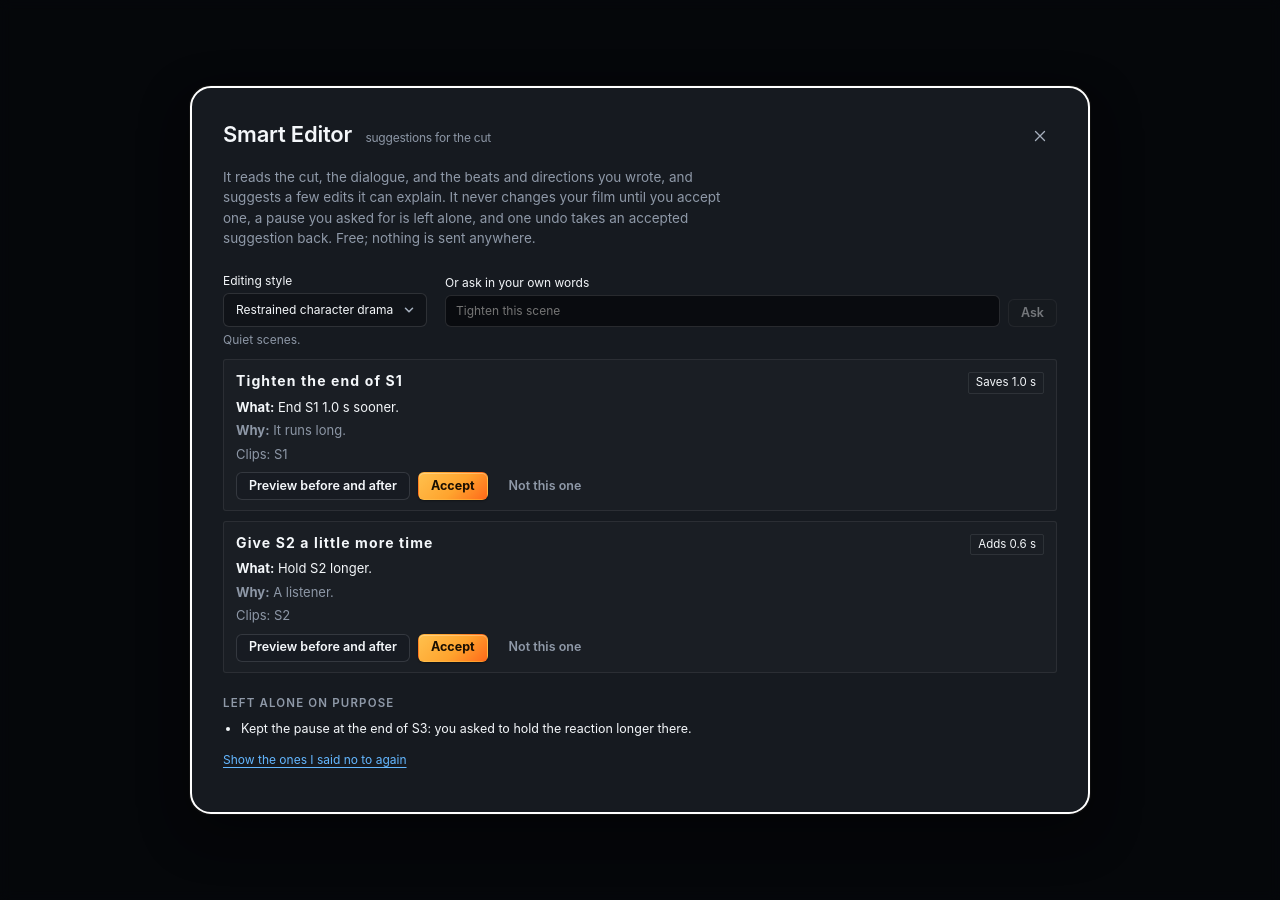
Test: the Smart Editor sheet › refusing sends a reject for that suggestion only
Click the button "Not this one" below "Give S2 a little more time". click: (545, 648)
box: [496,634,594,662]
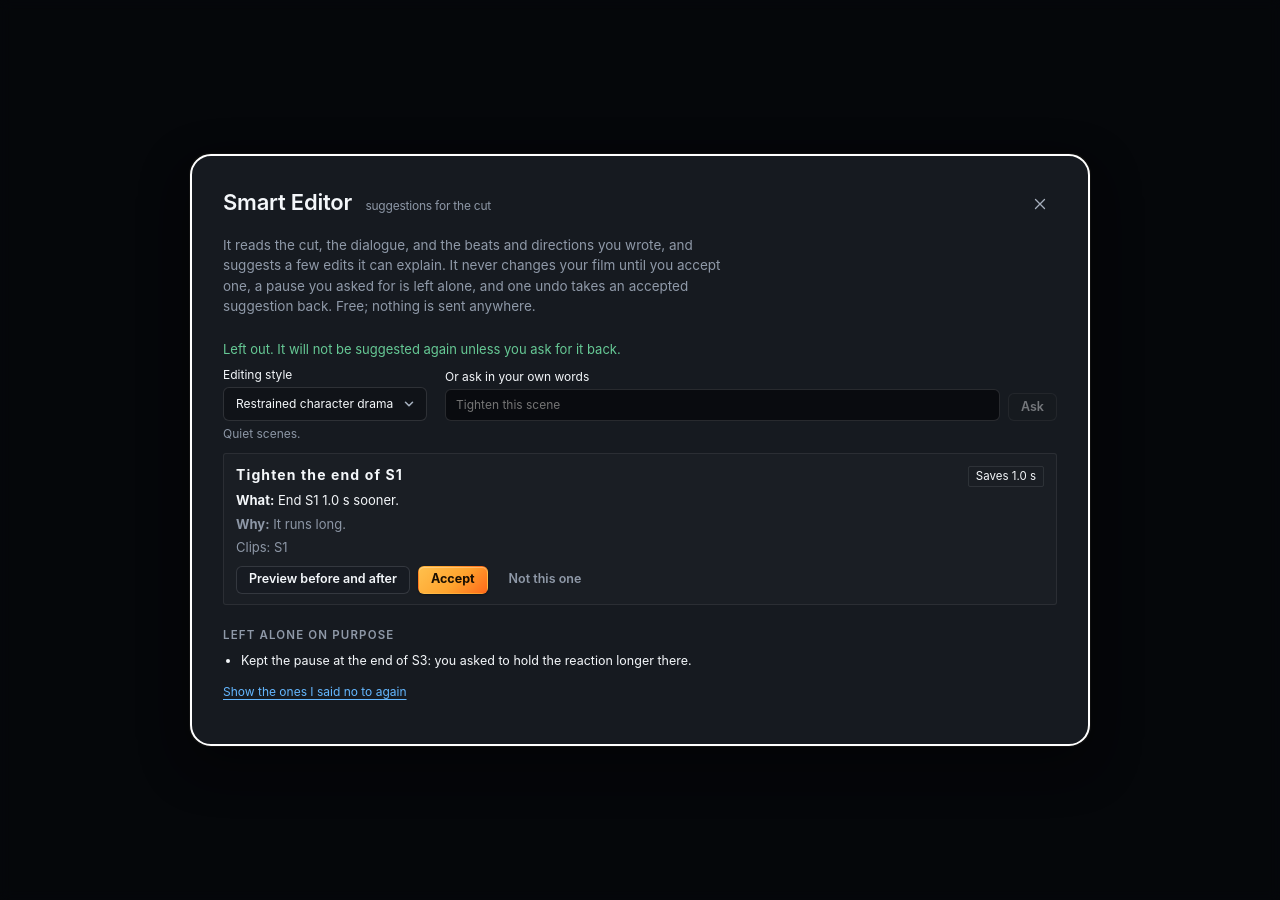
Expected: the list item "Tighten the end of S1" is shown, [223,453,1057,605]
Now the heading "Give S2 a little more time" is gone
